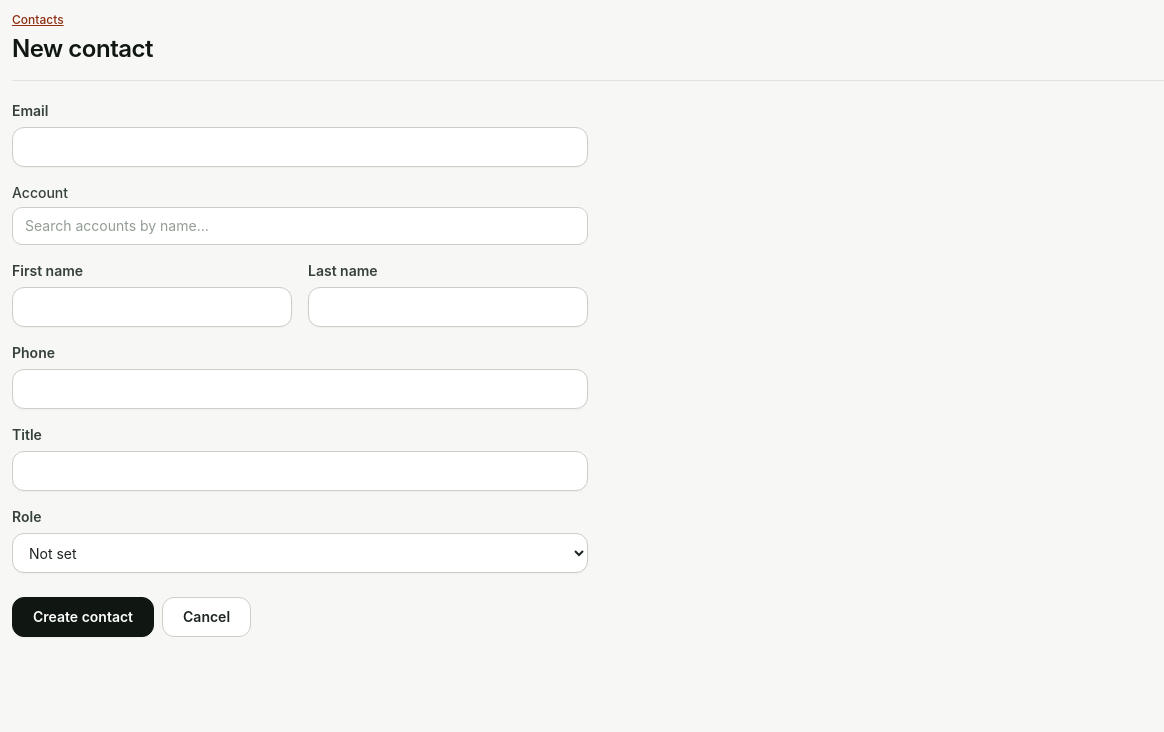
Test: ContactFormPage — create › rejects a malformed email before any network call
Step 1. Type "not-an-email" into the field labelled "Email" → (300, 147), box top-left (12, 127), bottom-right (588, 167)
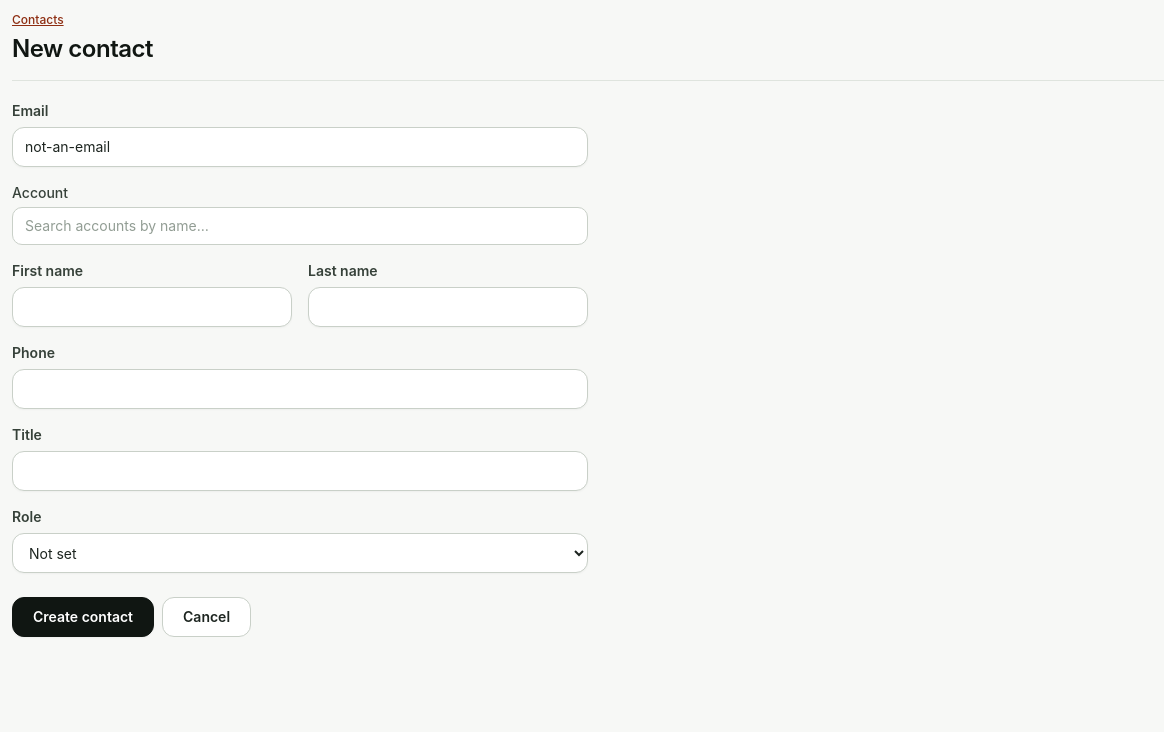
Step 2. Type "Acme Corp" into the dropdown labelled "Account" → (300, 226), box top-left (12, 207), bottom-right (588, 245)
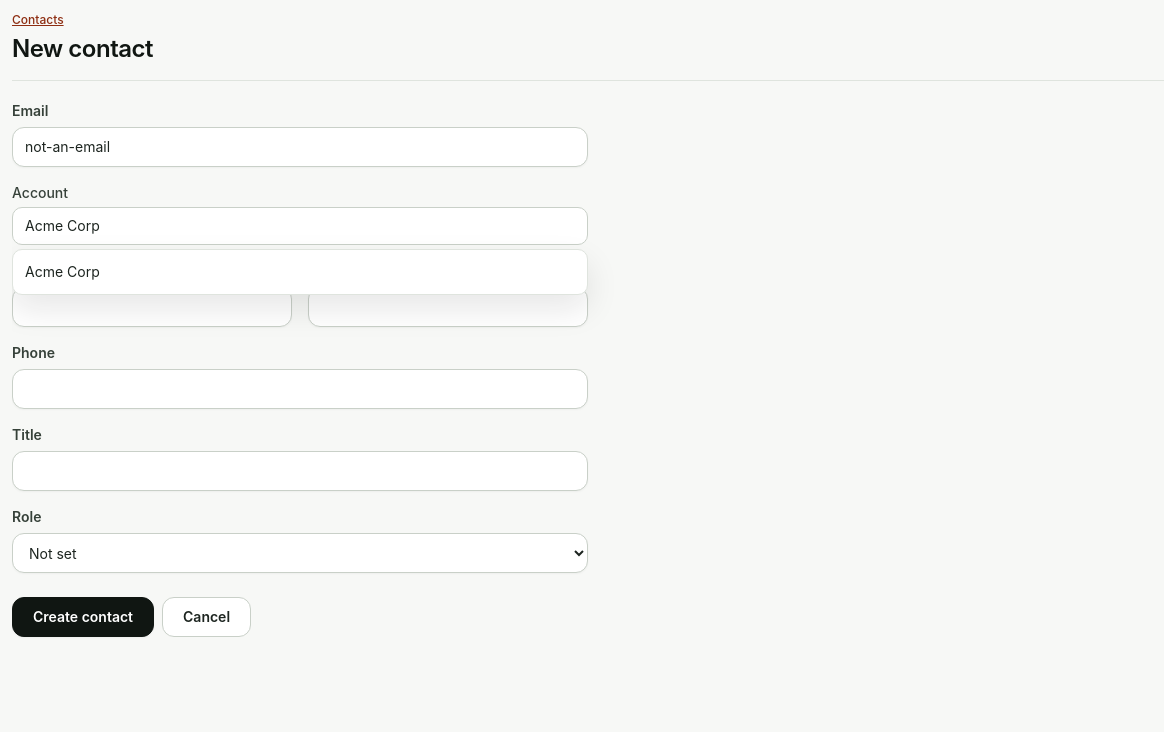
Step 3. Click the button "Acme Corp" → click(62, 272), box top-left (13, 254), bottom-right (587, 290)
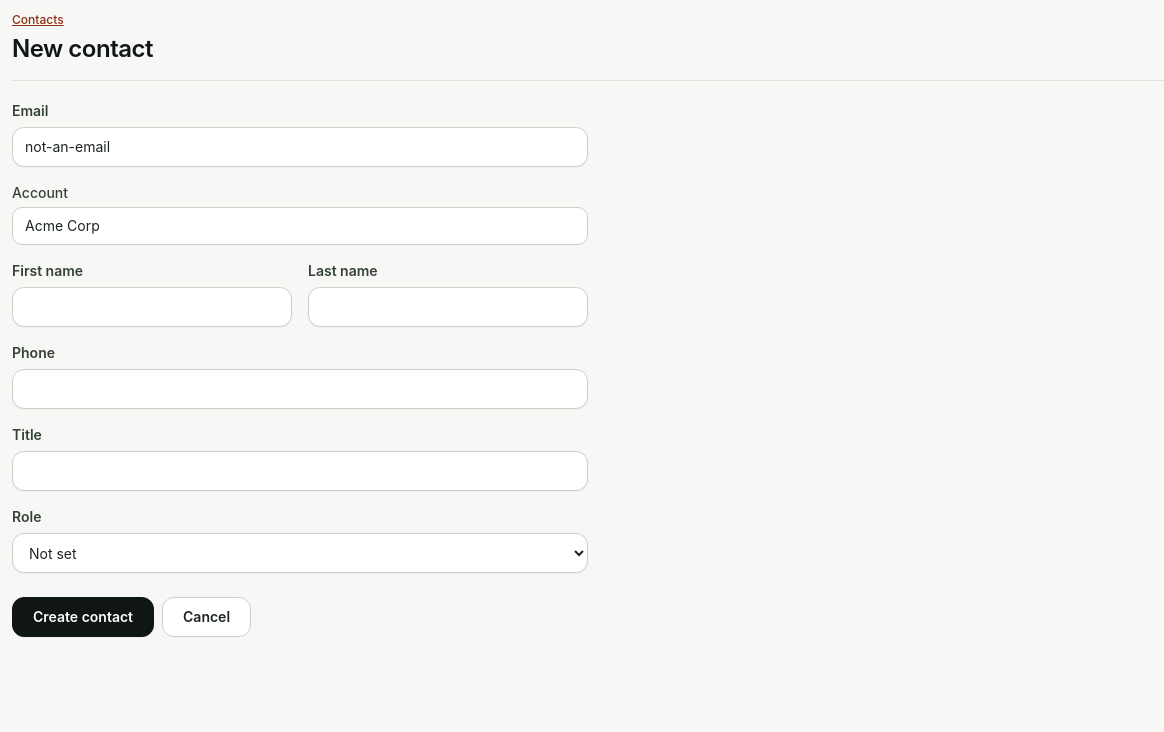
Step 4. Click the button "Create contact" → click(83, 617), box top-left (12, 597), bottom-right (154, 637)
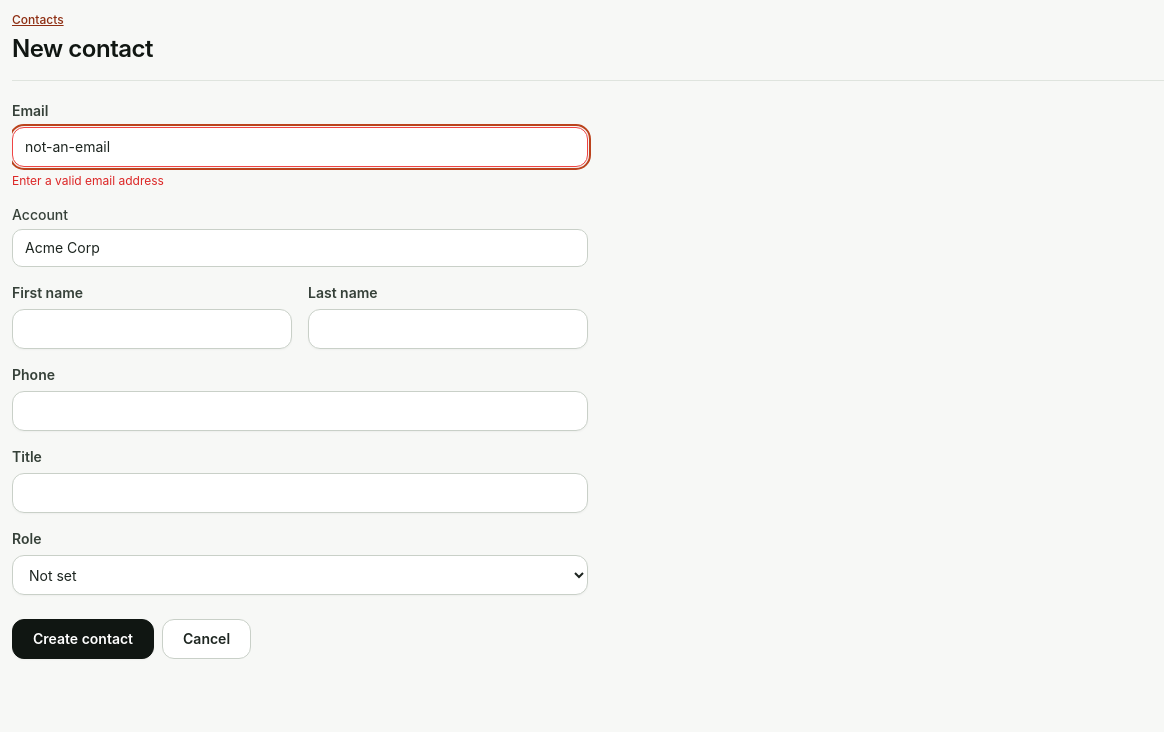
Check: the text "Enter a valid email address" is shown, box top-left (12, 173), bottom-right (164, 188)
